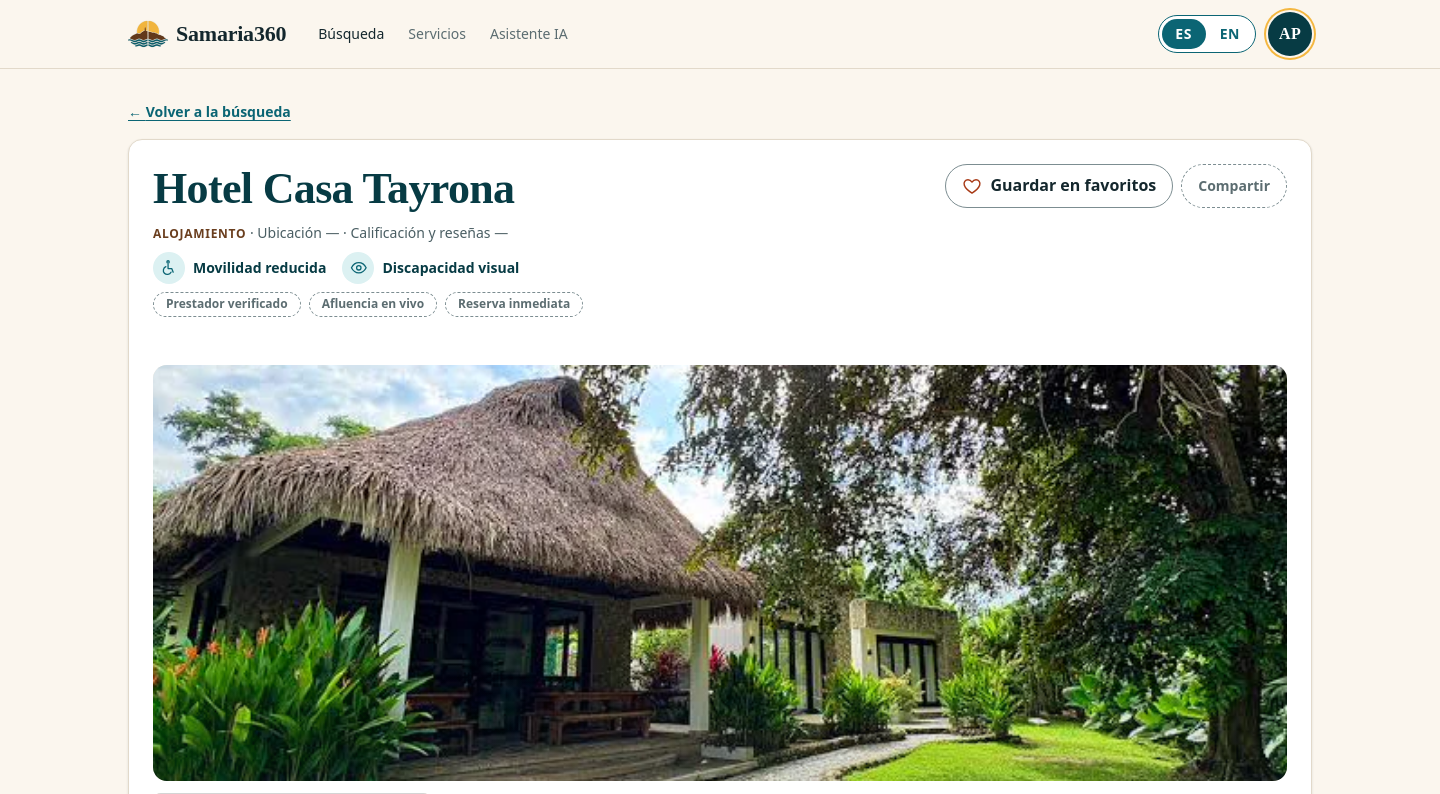
it: Corazón de favoritos en WF-05 y WF-06 (RF54, DEC-93) › WF-06: el corazón está activo; un 404 avisa «Este servicio ya no está disponible» y se revierte
Click the button with aria-label "Guardar en favoritos: Hotel Casa Tayrona".
click(1059, 186)  # box x1=945 y1=164 x2=1173 y2=208
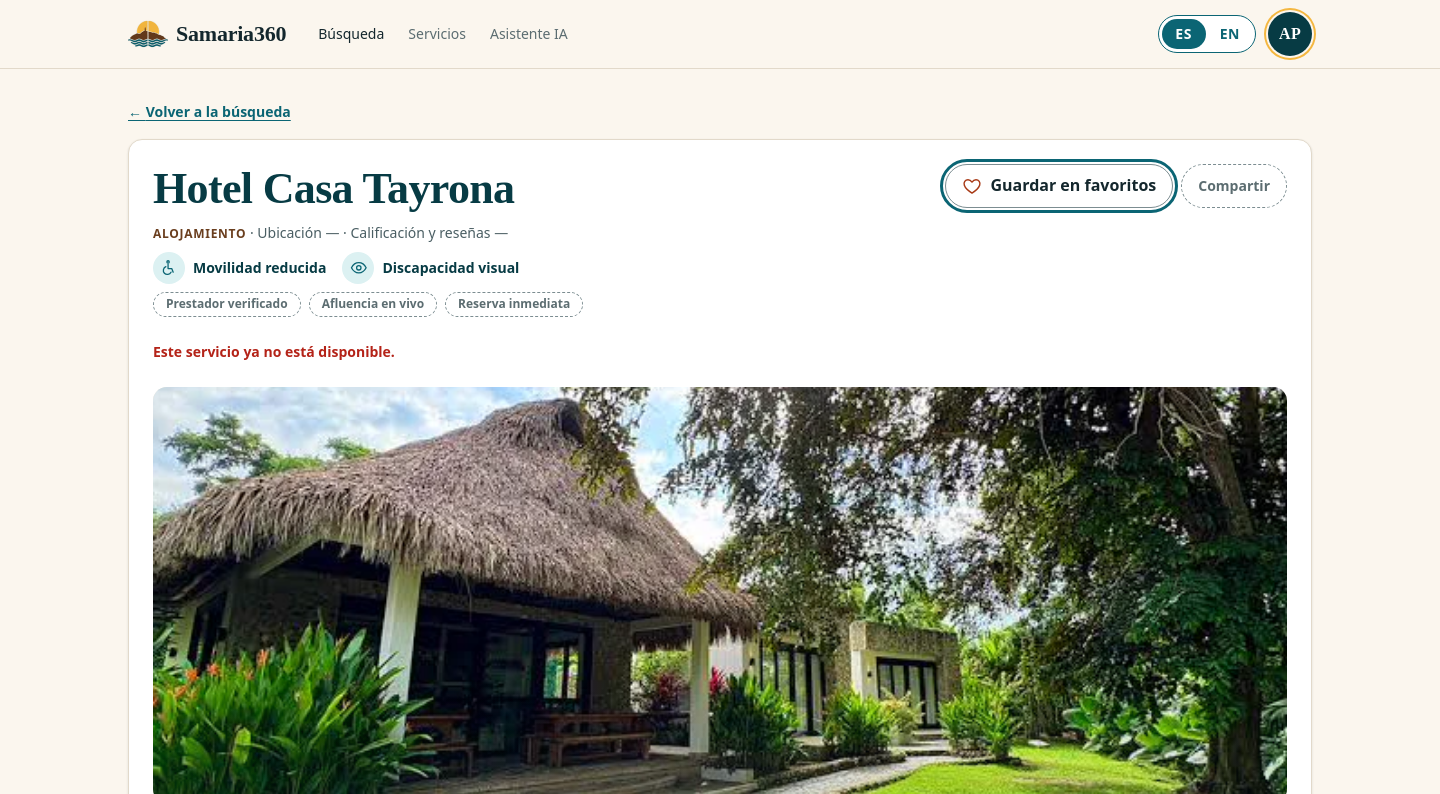
Expected: the text "Este servicio ya no está disponible." is shown, x1=153 y1=342 x2=395 y2=361
